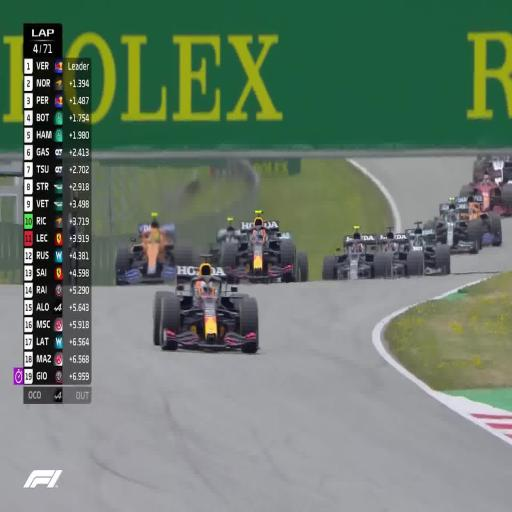f1_car: (153, 262, 259, 353), (221, 210, 308, 282), (115, 213, 195, 284), (435, 195, 502, 253), (459, 155, 512, 216), (322, 226, 376, 280), (405, 220, 451, 274), (374, 226, 409, 277), (209, 217, 241, 265)
